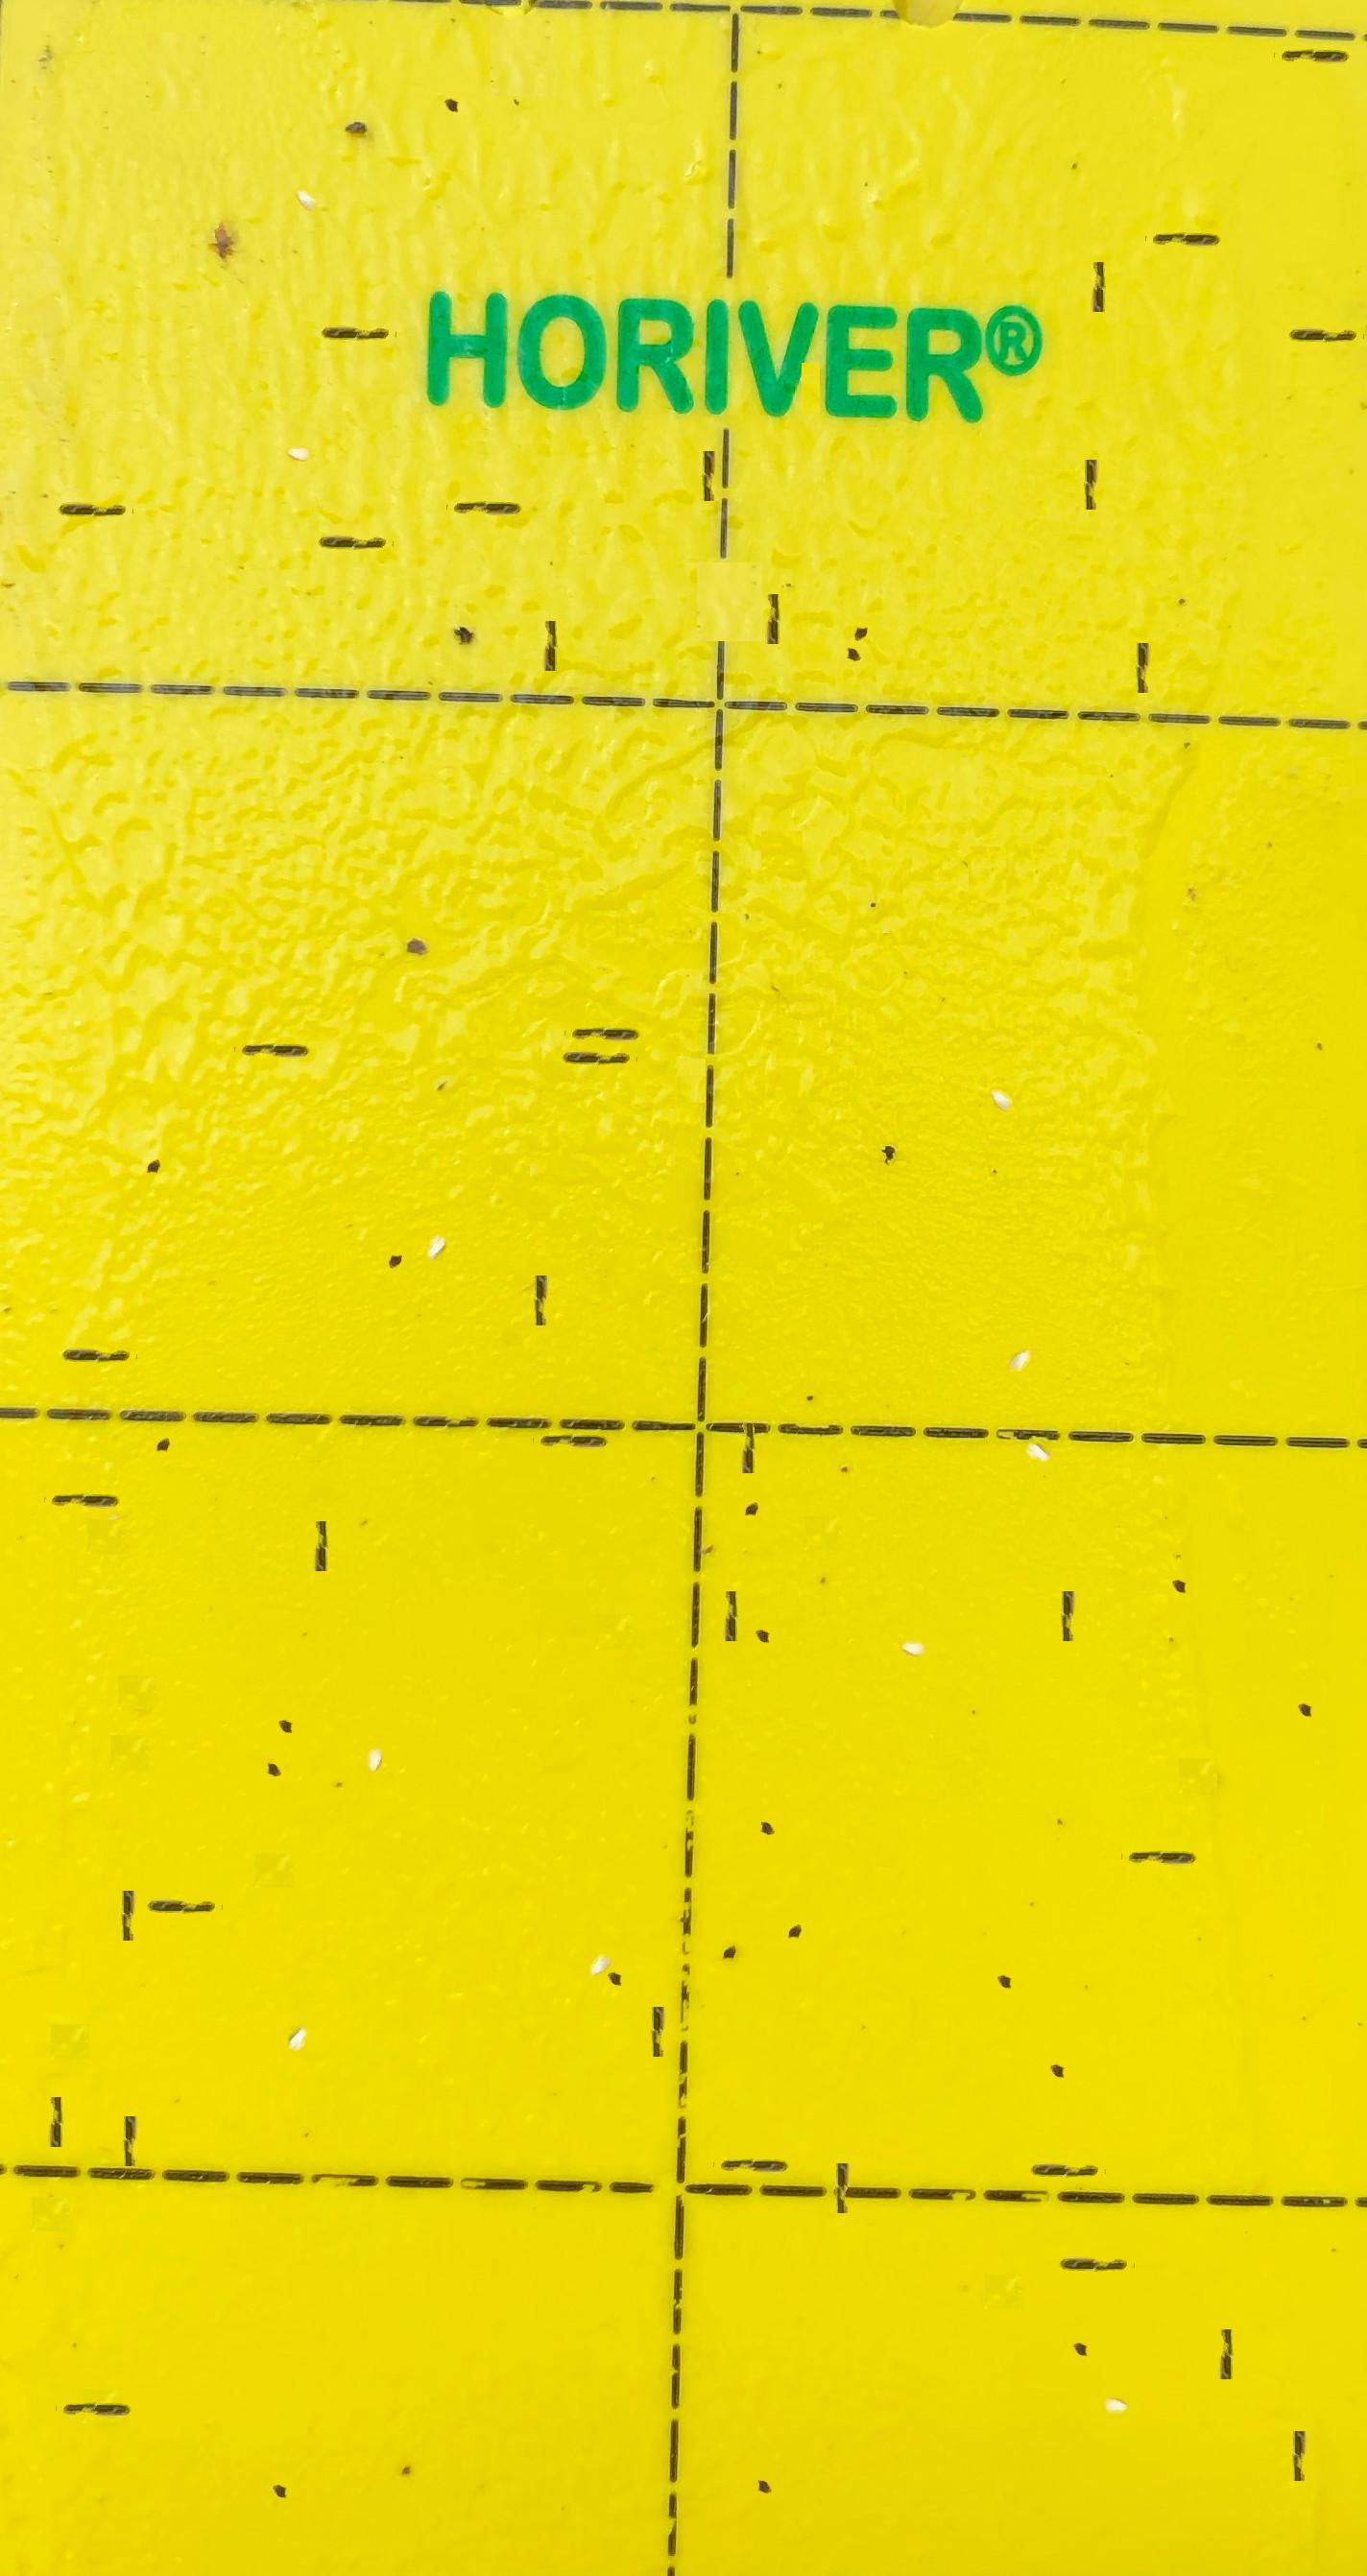white_fly: (1014, 1385, 1057, 1431), (278, 1975, 320, 2019), (414, 1177, 457, 1222), (286, 136, 329, 179), (580, 1900, 622, 1942), (999, 1297, 1041, 1339), (982, 1036, 1023, 1080), (893, 1595, 936, 1632), (356, 1702, 397, 1739), (1094, 2348, 1135, 2385), (280, 399, 320, 436)
